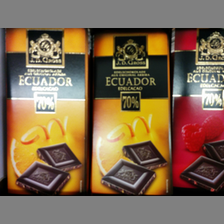chocolate: (4, 30, 89, 193), (91, 32, 171, 193), (169, 28, 222, 190)
